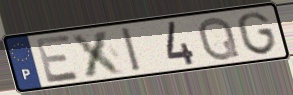4: (165, 20, 197, 68)
E: (33, 32, 83, 85)
G: (235, 10, 279, 56)
I: (118, 25, 144, 74)
Q: (197, 15, 243, 63)
X: (69, 28, 128, 79)
